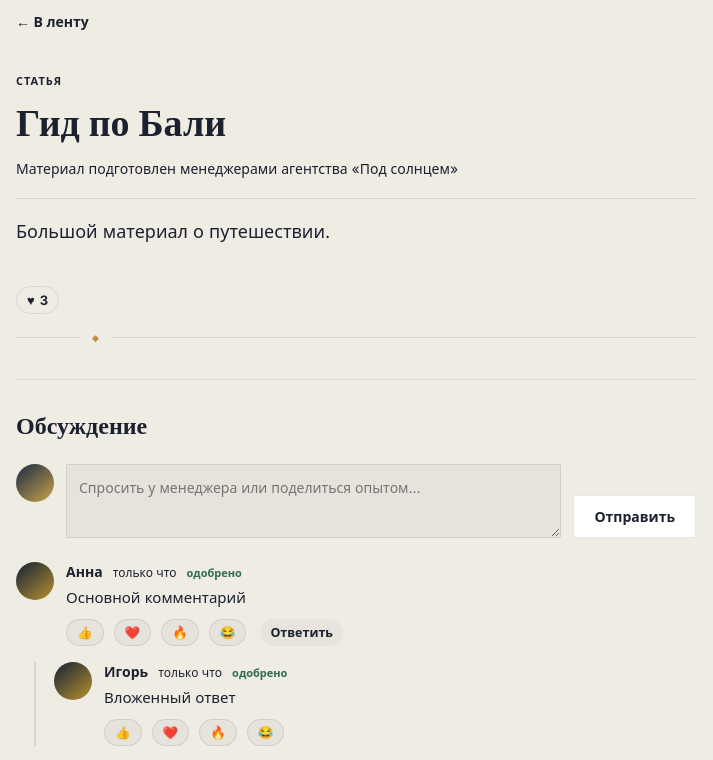
Scenario: ArticleComments › opens a reply composer, submits parent_id and renders one nested level
Expected: the element with class "comment-replies" is shown, top-left (34, 662), bottom-right (696, 746)
Expected: the element with class "comment-replies" shows "Вложенный ответ", top-left (104, 688), bottom-right (236, 707)
Click the button "Ответить": x=302, y=633 top-left (260, 619), bottom-right (343, 646)
(page scrolled)
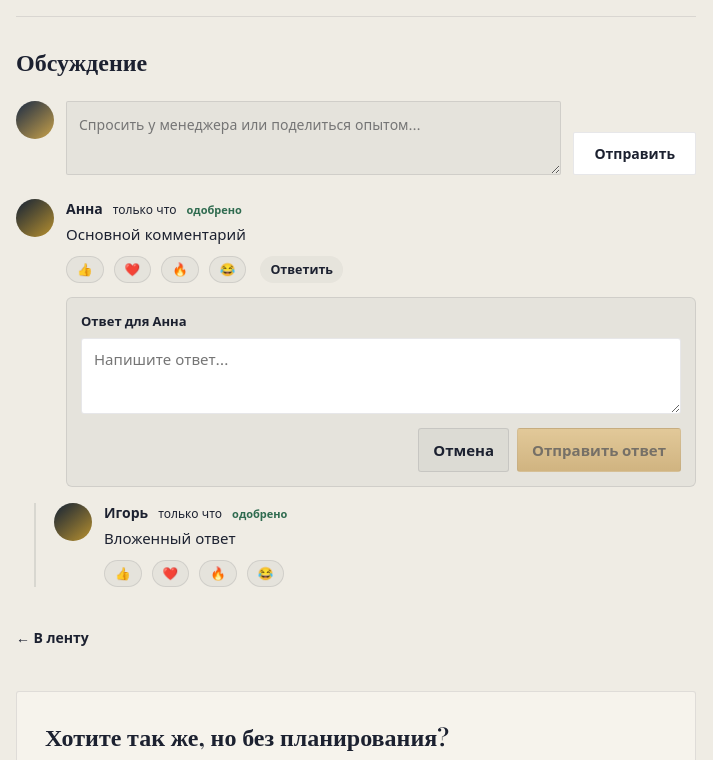
In the text box labelled "Ответ для Анна": x=381, y=376 top-left (81, 338), bottom-right (681, 414), type "Спасибо за совет"
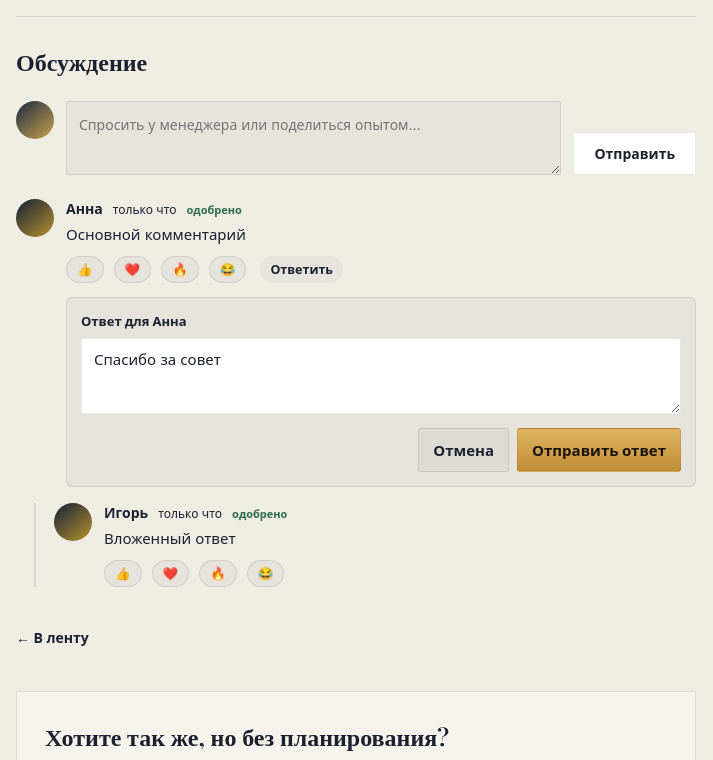
Click the button "Отправить ответ": x=599, y=450 top-left (517, 428), bottom-right (681, 472)
(page scrolled)
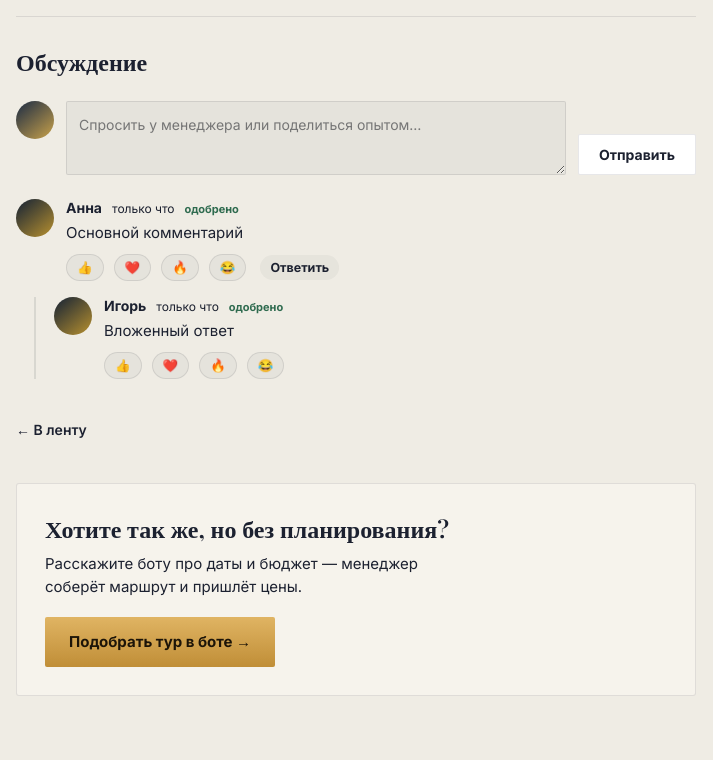
Expected: the text "Ответ для Анна" is gone
